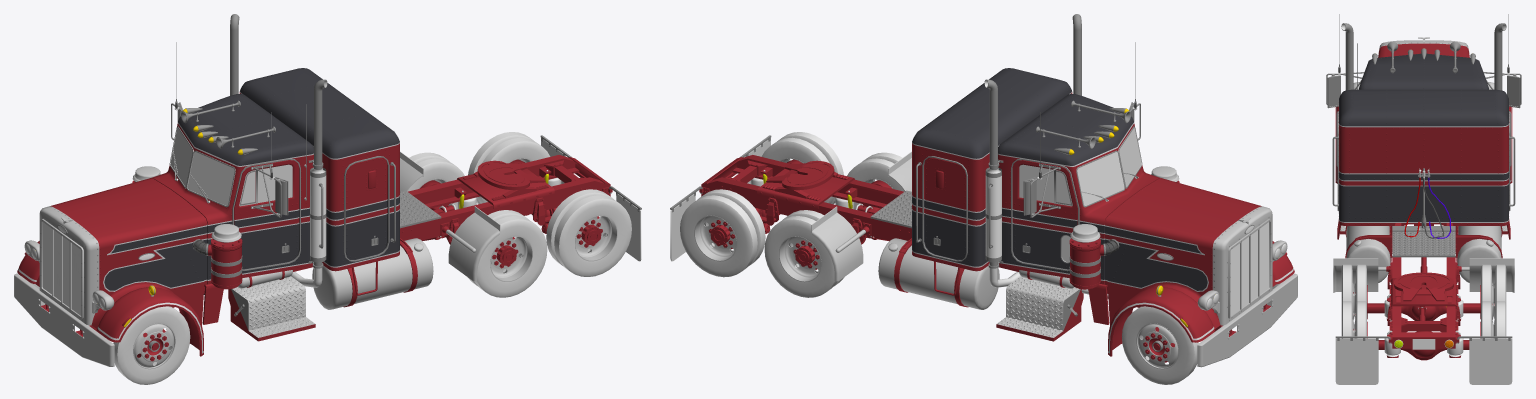
The model's file is veh-semi.glb.
The picture shows the model from 3 angles, left to right: view 1: azimuth 30°, elevation 25°; view 2: azimuth 150°, elevation 25°; view 3: azimuth 270°, elevation 25°; orthographic projection. The views are drawn at different scales.
Visible parts, largest first — view 1: bonnet_ok_primary_0, chassis_cab.12_0, Extra1_secondary_0, chassis_primary_0, cab_secondary_0, cab_primary_0, Extra1_primary_0, wheel_lb_chassis_vlo.1_0, bonnet_ok_cab.12_0, chassis_chassis_vlo.2_0, bump_front_ok_cab.12_0, bonnet_ok_secondary_0 (+20 smaller); view 2: bonnet_ok_primary_0, chassis_cab.12_0, Extra1_secondary_0, chassis_primary_0, cab_secondary_0, cab_primary_0, Extra1_primary_0, wheel_rb_chassis_vlo.1_0, bonnet_ok_cab.12_0, chassis_chassis_vlo.2_0, bump_front_ok_cab.12_0, bonnet_ok_secondary_0 (+20 smaller); view 3: Extra1_secondary_0, Extra1_primary_0, chassis_primary_0, chassis_inside.12_0, chassis_cab.12_0, cab_secondary_0, chassis_chassis_vlo.2_0, Extra1_third_0, bonnet_ok_primary_0, wheel_lm_chassis_vlo.1_0, wheel_rm_chassis_vlo.1_0, wheel_rb_chassis_vlo.1_0 (+8 smaller).
Part boxes in pixels (<box>): bonnet_ok_primary_0: <box>17,178,207,356</box>; chassis_cab.12_0: <box>232,158,499,337</box>; Extra1_secondary_0: <box>240,68,399,266</box>; chassis_primary_0: <box>41,155,612,341</box>; cab_secondary_0: <box>178,94,313,280</box>; cab_primary_0: <box>132,123,313,324</box>; Extra1_primary_0: <box>239,92,399,295</box>; wheel_lb_chassis_vlo.1_0: <box>546,189,631,276</box>; bonnet_ok_cab.12_0: <box>24,206,114,325</box>; chassis_chassis_vlo.2_0: <box>230,14,641,330</box>; bump_front_ok_cab.12_0: <box>14,273,114,366</box>; bonnet_ok_secondary_0: <box>104,226,207,290</box>; bonnet_ok_primary_0: <box>1105,178,1294,356</box>; chassis_cab.12_0: <box>812,158,1079,337</box>; Extra1_secondary_0: <box>912,68,1071,266</box>; chassis_primary_0: <box>699,155,1270,341</box>; cab_secondary_0: <box>998,94,1133,280</box>; cab_primary_0: <box>998,123,1179,324</box>; Extra1_primary_0: <box>912,92,1072,295</box>; wheel_rb_chassis_vlo.1_0: <box>680,189,765,277</box>; bonnet_ok_cab.12_0: <box>1197,206,1287,325</box>; chassis_chassis_vlo.2_0: <box>670,14,1081,330</box>; bump_front_ok_cab.12_0: <box>1197,273,1297,367</box>; bonnet_ok_secondary_0: <box>1105,226,1207,290</box>; Extra1_secondary_0: <box>1338,89,1509,221</box>; Extra1_primary_0: <box>1337,105,1510,239</box>; chassis_primary_0: <box>1340,223,1507,360</box>; chassis_inside.12_0: <box>1333,170,1514,384</box>; chassis_cab.12_0: <box>1333,225,1514,292</box>; cab_secondary_0: <box>1359,53,1488,89</box>; chassis_chassis_vlo.2_0: <box>1335,23,1512,343</box>; Extra1_third_0: <box>1339,124,1508,222</box>; bonnet_ok_primary_0: <box>1335,43,1512,183</box>; wheel_lm_chassis_vlo.1_0: <box>1341,264,1366,305</box>; wheel_rm_chassis_vlo.1_0: <box>1481,264,1506,305</box>; wheel_rb_chassis_vlo.1_0: <box>1481,301,1506,338</box>.
Bounding box in the file's own units: 8.2 × 3.84 × 2.93.
